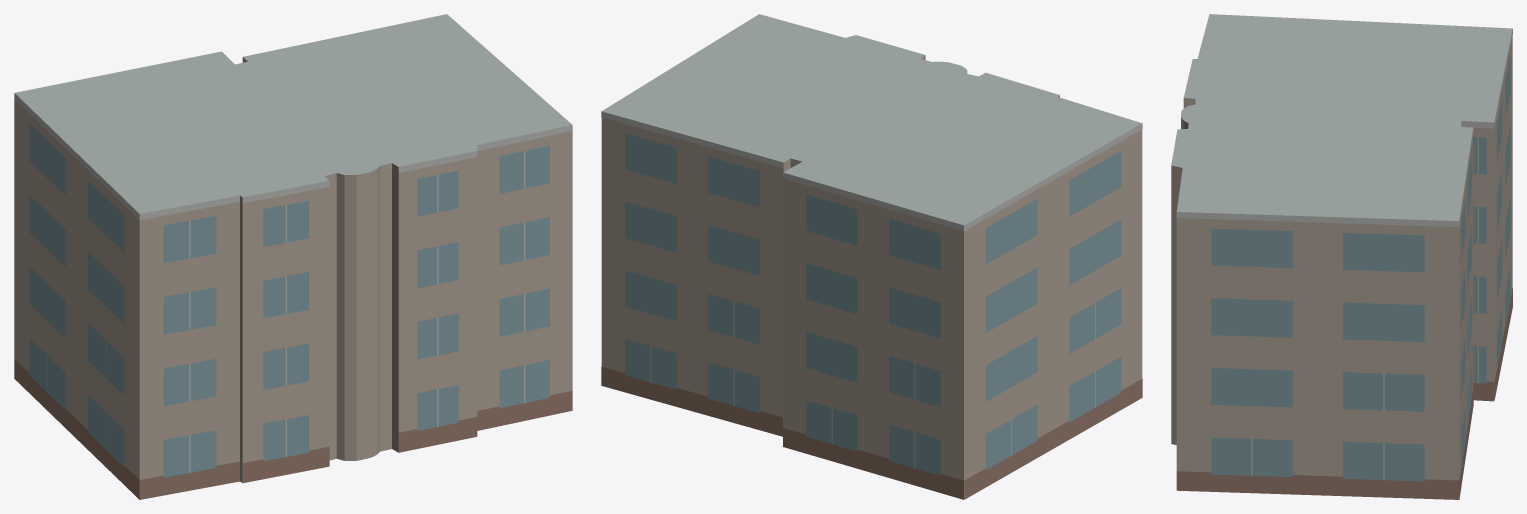
File: survey-upis-32826895.glb
3 renders of one model, left to right at view 1: azimuth 30°, elevation 25°; view 2: azimuth 150°, elevation 25°; view 3: azimuth 270°, elevation 25°, orthographic. The views are drawn at different scales.
Visible parts, largest first — view 1: survey-upis-32826895.tmp; view 2: survey-upis-32826895.tmp; view 3: survey-upis-32826895.tmp.
Part boxes in pixels (x1,y1,x2,y2): survey-upis-32826895.tmp: [14, 14, 572, 499]; survey-upis-32826895.tmp: [601, 14, 1142, 499]; survey-upis-32826895.tmp: [1171, 14, 1512, 499].
Size of the model in its own units: 18.02 by 11.3 by 12.56.
